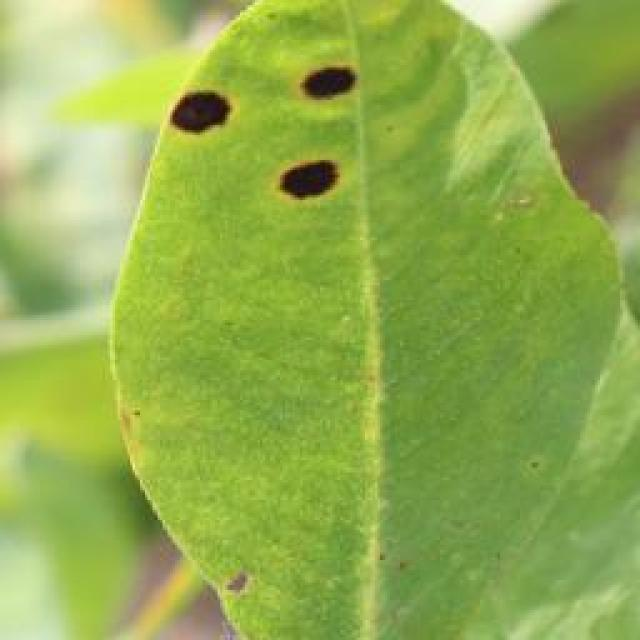Yellowish: (169, 47, 355, 215)
